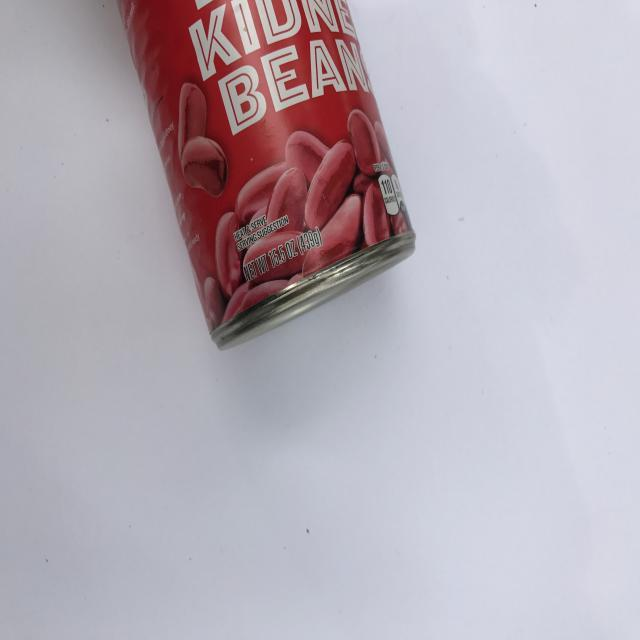metal: (115, 0, 418, 351)
